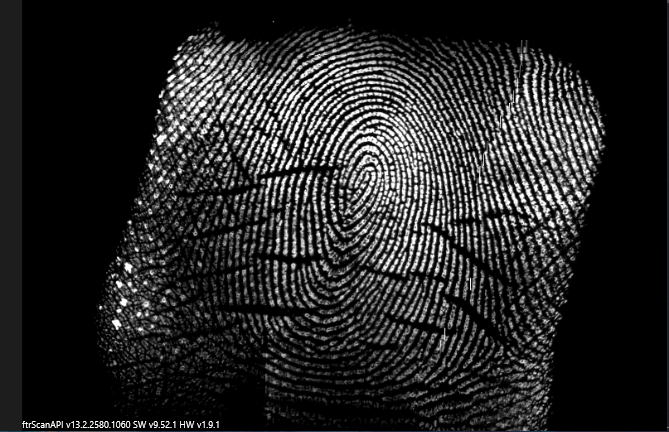deltas: (467, 314, 521, 372)
nucleo: (335, 154, 391, 211)
